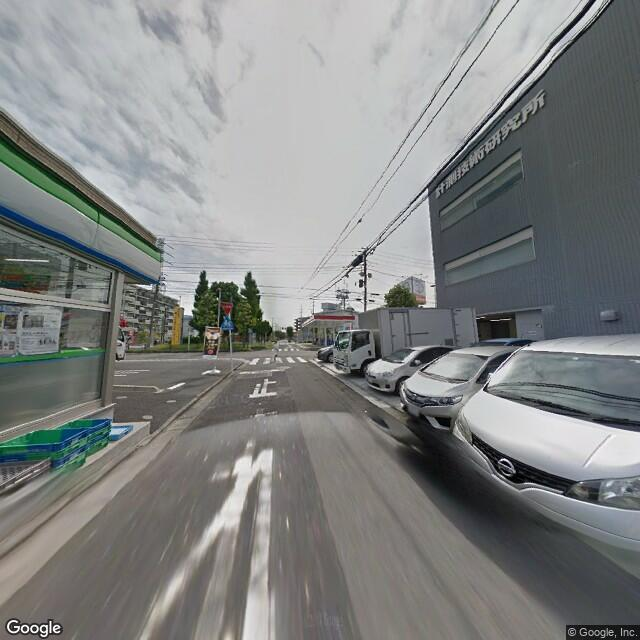family_mart: (2, 145, 160, 288)
